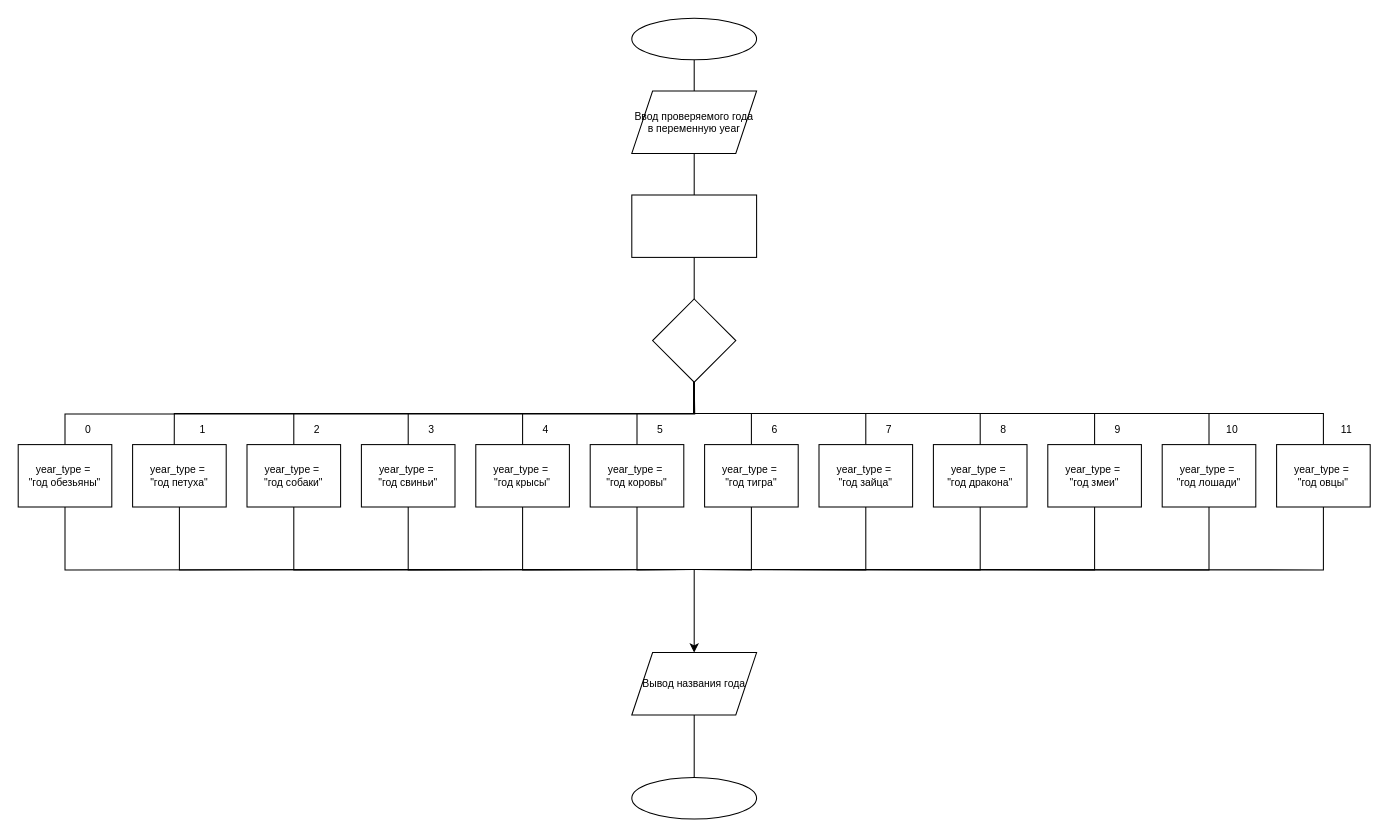
This 1388x837 diagram has some shape labels left out. The centre of each missing label's shape, as x and y in pixels:
"year_num" goes at (694,340).
"year_num остаток при делении year на 12" goes at (694,225).
"Конец" goes at (694,797).
"Начало" goes at (694,38).
